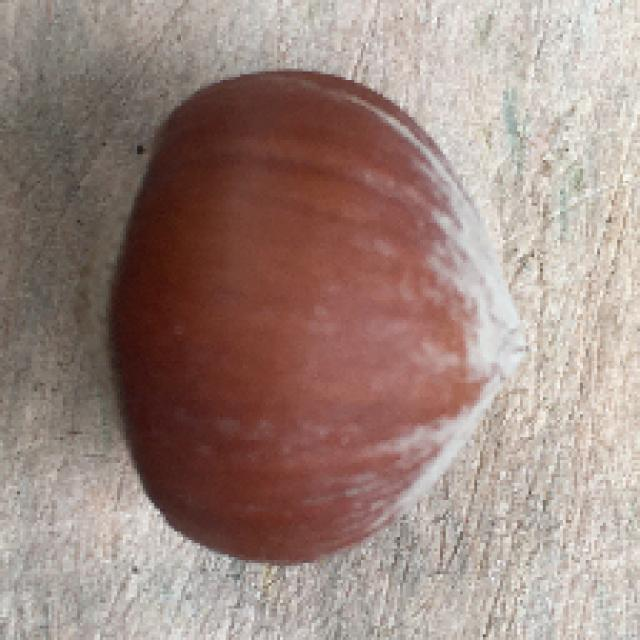QualityHazelnut: (69, 72, 530, 566)
